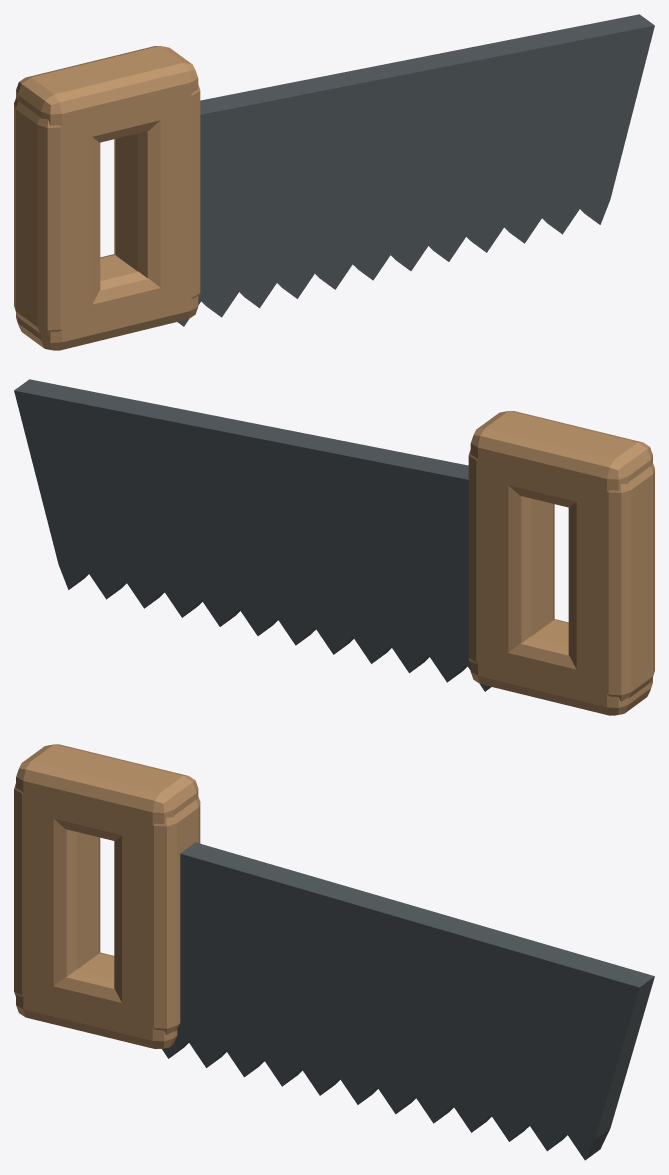
Rendered from tool_carpenter_saw.glb.
3 renders of one model, top to bottom at view 1: azimuth 30°, elevation 25°; view 2: azimuth 150°, elevation 25°; view 3: azimuth 330°, elevation 25°, orthographic.
Visible parts, largest first — view 1: tool_carpenter_saw; view 2: tool_carpenter_saw; view 3: tool_carpenter_saw.
Part boxes in pixels (box(x1,y1,x2,y2)): tool_carpenter_saw: box(14, 14, 654, 350); tool_carpenter_saw: box(14, 379, 654, 715); tool_carpenter_saw: box(14, 744, 654, 1160).
Bounding box in the file's own units: 0.5575 × 0.23 × 0.06.
